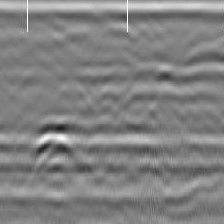Utility: (32, 115, 91, 174)
